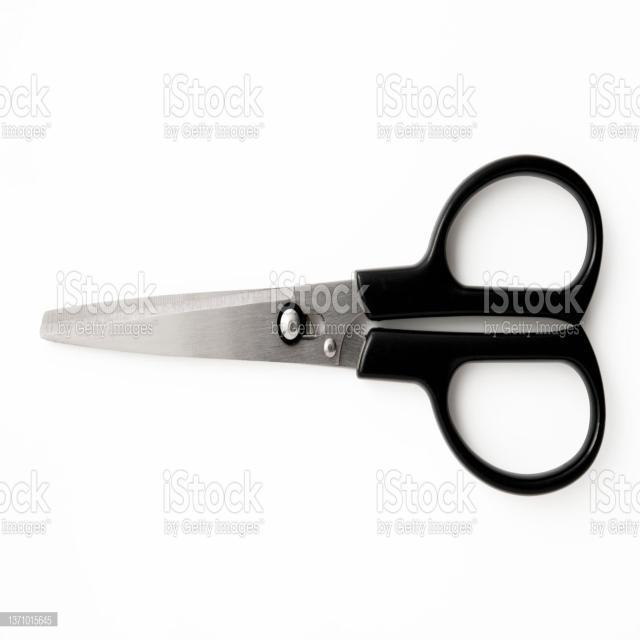scissor: (42, 155, 608, 496)
